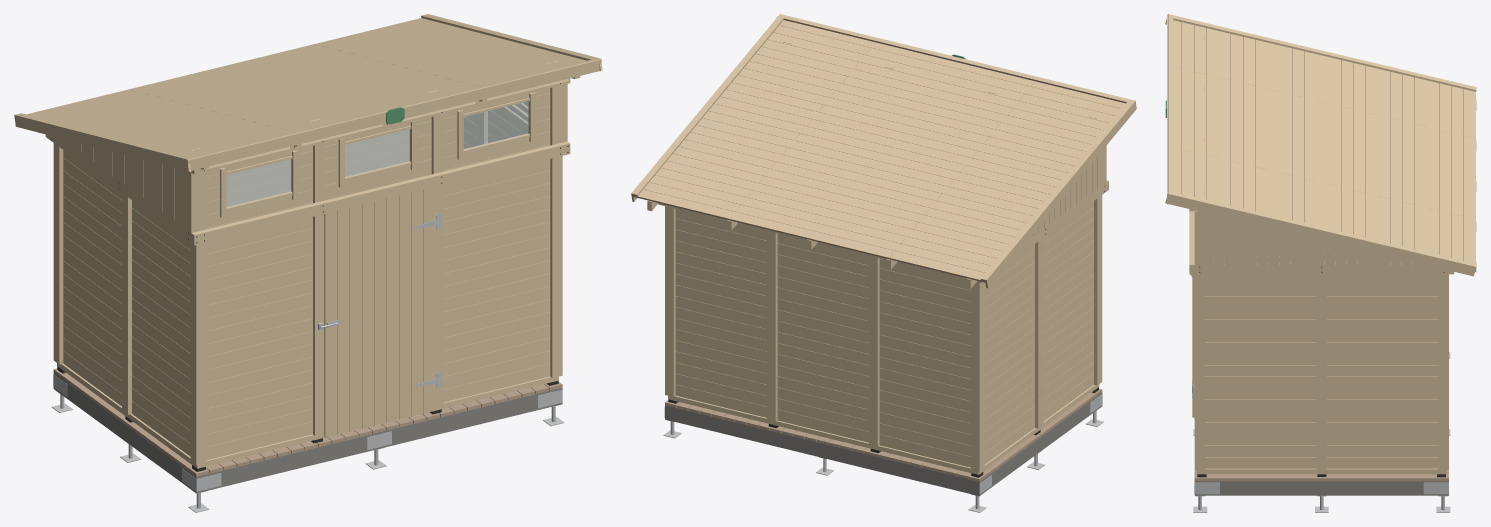
Rendered from herold.glb.
The picture shows the model from 3 angles, left to right: view 1: azimuth 30°, elevation 25°; view 2: azimuth 150°, elevation 25°; view 3: azimuth 270°, elevation 25°; orthographic projection. The views are drawn at different scales.
Visible parts, largest first — view 1: P27_kridlo_vrat, P00_plosina, P05_pozednice_celni_dolni, P03_noha1_celni_L, P00_podlaha, P23_modul_celni_3_3, P23_modul_celni_1_2, P23_modul_celni_1_3, P23_modul_celni_1_5, P23_modul_celni_3_1, P23_modul_celni_3_2, P23_modul_celni_3_4 (+66 smaller); view 2: P00_plosina, P00_podlaha, P23_modul_zadni_2_5, P23_modul_zadni_1_5, P23_modul_zadni_2_2, P23_modul_zadni_3_1, P23_modul_zadni_2_1, P23_modul_zadni_2_3, P23_modul_zadni_2_4, P23_modul_zadni_1_1, P23_modul_zadni_1_2, P23_modul_zadni_1_4 (+87 smaller); view 3: P26_stit_pravy, P23_modul_bok_P_1_2, P23_modul_bok_P_2_2, P23_modul_bok_P_1_1, P23_modul_bok_P_1_3, P23_modul_bok_P_1_4, P23_modul_bok_P_1_5, P23_modul_bok_P_2_1, P23_modul_bok_P_2_3, P23_modul_bok_P_2_4, P23_modul_bok_P_2_5, P17_stitovka_P (+69 smaller).
Part boxes in pixels (<box>): P27_kridlo_vrat: <box>324,187,435,437</box>; P00_plosina: <box>53,373,562,493</box>; P05_pozednice_celni_dolni: <box>191,141,570,245</box>; P03_noha1_celni_L: <box>190,148,206,464</box>; P00_podlaha: <box>53,368,562,476</box>; P23_modul_celni_3_3: <box>444,260,550,324</box>; P23_modul_celni_1_2: <box>206,357,312,421</box>; P23_modul_celni_1_3: <box>206,318,312,382</box>; P23_modul_celni_1_5: <box>206,241,312,305</box>; P23_modul_celni_3_1: <box>444,338,550,402</box>; P23_modul_celni_3_2: <box>444,299,550,363</box>; P23_modul_celni_3_4: <box>444,222,550,286</box>; P00_plosina: <box>665,392,1102,495</box>; P00_podlaha: <box>665,388,1102,481</box>; P23_modul_zadni_2_5: <box>777,254,868,309</box>; P23_modul_zadni_1_5: <box>879,279,970,334</box>; P23_modul_zadni_2_2: <box>777,354,868,409</box>; P23_modul_zadni_3_1: <box>675,362,766,417</box>; P23_modul_zadni_2_1: <box>777,387,868,442</box>; P23_modul_zadni_2_3: <box>777,321,868,376</box>; P23_modul_zadni_2_4: <box>777,287,868,342</box>; P23_modul_zadni_1_1: <box>879,412,970,467</box>; P23_modul_zadni_1_2: <box>879,379,970,434</box>; P23_modul_zadni_1_4: <box>879,312,970,367</box>; P26_stit_pravy: <box>1202,212,1476,272</box>; P23_modul_bok_P_1_2: <box>1205,399,1316,434</box>; P23_modul_bok_P_2_2: <box>1327,399,1438,434</box>; P23_modul_bok_P_1_1: <box>1205,434,1316,468</box>; P23_modul_bok_P_1_3: <box>1205,365,1316,399</box>; P23_modul_bok_P_1_4: <box>1205,331,1316,365</box>; P23_modul_bok_P_1_5: <box>1205,296,1316,330</box>; P23_modul_bok_P_2_1: <box>1327,434,1438,468</box>; P23_modul_bok_P_2_3: <box>1327,365,1438,399</box>; P23_modul_bok_P_2_4: <box>1327,331,1438,365</box>; P23_modul_bok_P_2_5: <box>1327,296,1438,330</box>; P17_stitovka_P: <box>1165,193,1476,276</box>.
Bounding box in the file's own units: 3.7 × 3.16 × 2.7.
